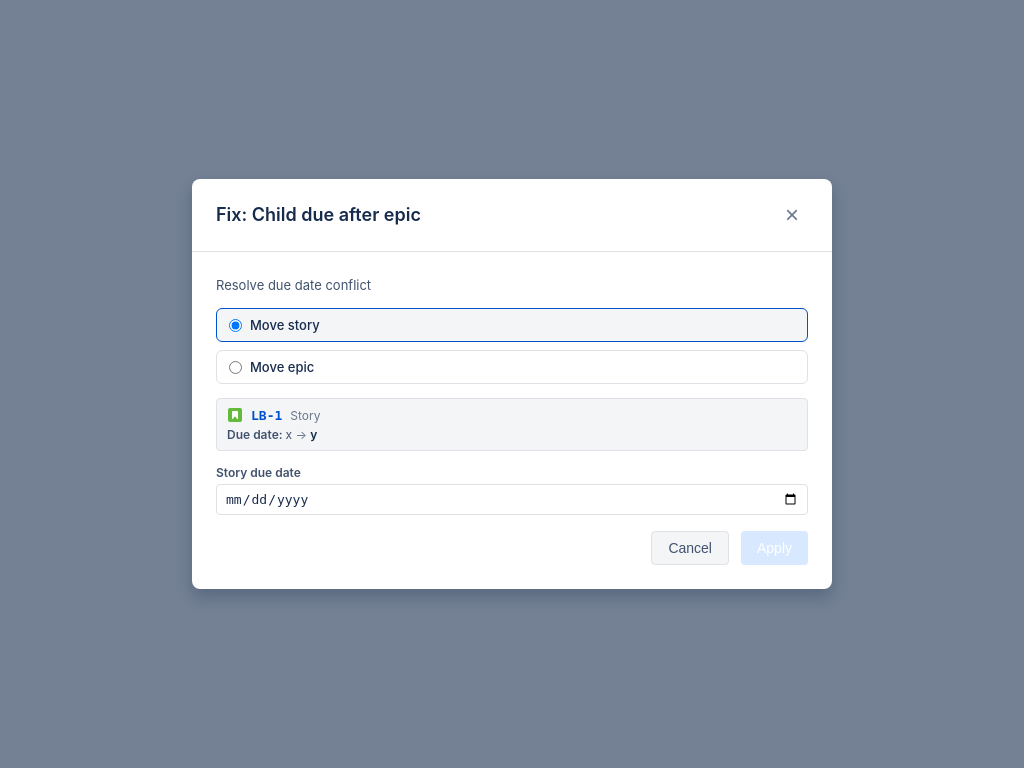
Scenario: FixModal › toggles the visible inputs/changes when a choice is picked
Expected: the text "LB-1" is shown, [251,408,282,423]
Expected: the text "Story due date" is shown, [216,465,301,480]
Switch to the second choice
What coordinates should you click on to do the following:
click the radio button labelled "Move epic"
I would click on:
 (236, 367)
Its box is [229,361,242,374].
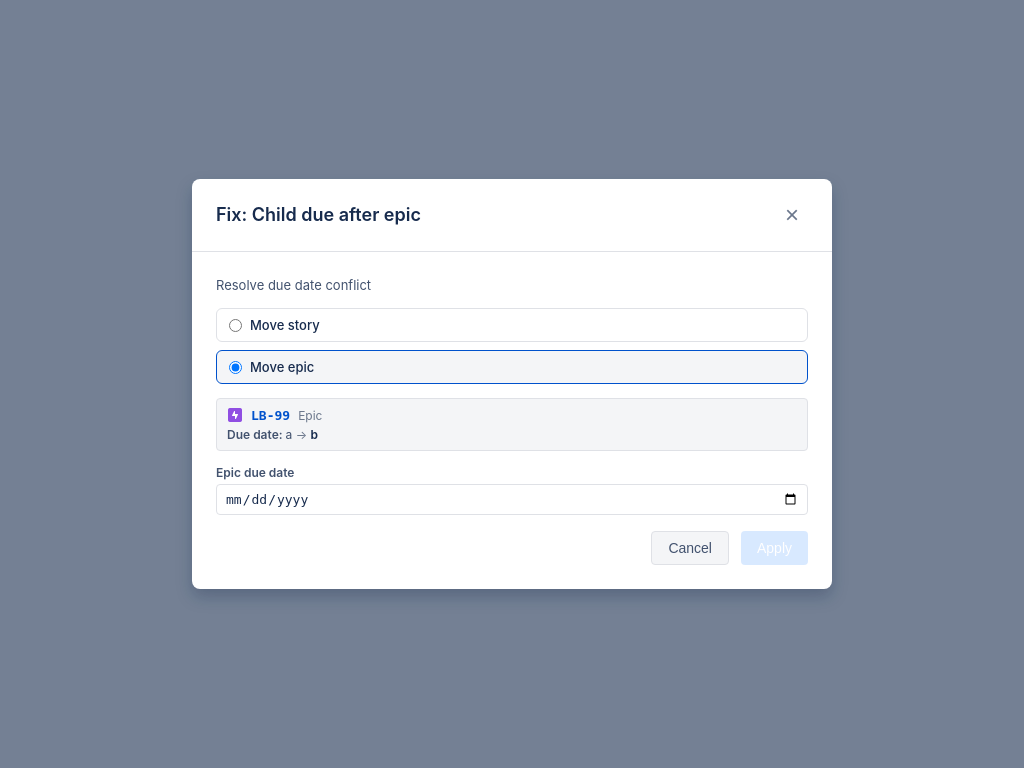
Now the text "Epic due date" is shown, box [216,465,294,480]
Now the text "LB-99" is shown, box [251,408,290,423]
Now the text "Story Due date" is gone
